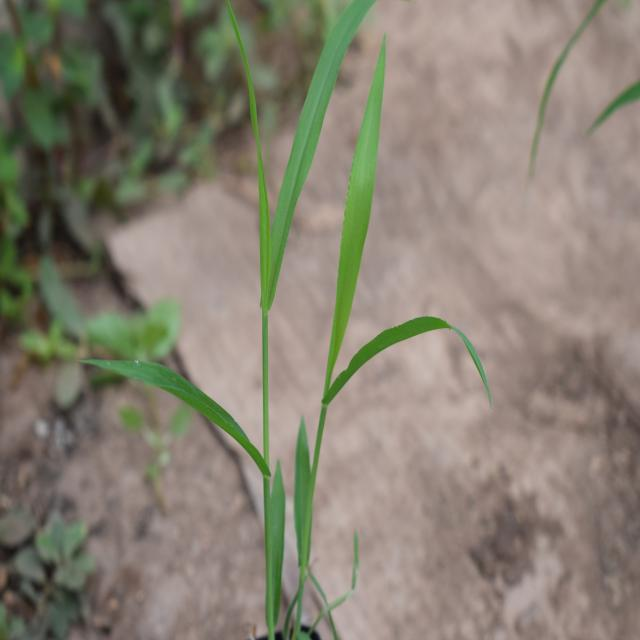crabgrass: (160, 0, 446, 558)
